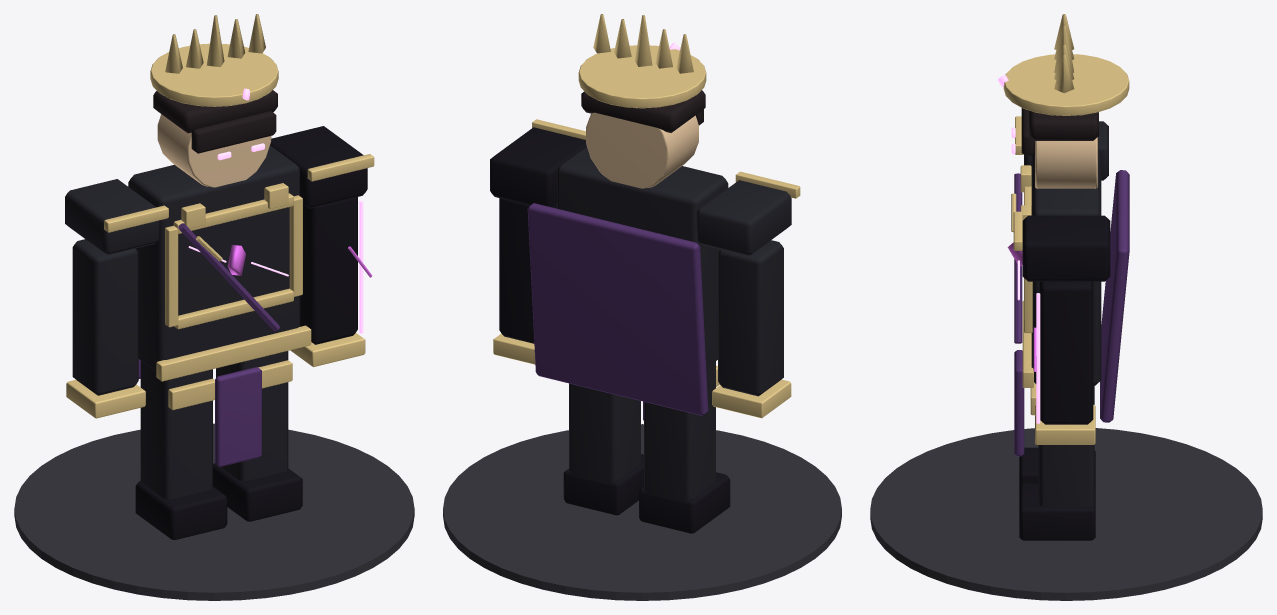
Rendered from crownbound_challenger_v2.fbx.
3 renders of one model, left to right at view 1: azimuth 30°, elevation 25°; view 2: azimuth 150°, elevation 25°; view 3: azimuth 270°, elevation 25°, orthographic.
Parts seen in each view (by area): view 1: Preview_Base_Disc, Torso_Black_Armor, Arm_Left_Armor, Leg_Left_Armor, Arm_Right_Corrupted_Armor, Crown_Circlet, Shoulder_Left_Gold_Edged, Royal_Waist_Cloth, Shoulder_Right_Corrupted, Head_Roblox_BlockRounded, Leg_Right_Armor, Boot_Left (+19 smaller); view 2: Preview_Base_Disc, Short_Torn_Royal_Cape, Torso_Black_Armor, Arm_Left_Armor, Leg_Left_Armor, Leg_Right_Armor, Head_Roblox_BlockRounded, Crown_Circlet, Shoulder_Left_Gold_Edged, Shoulder_Right_Corrupted, Arm_Right_Corrupted_Armor, Boot_Left (+6 smaller); view 3: Preview_Base_Disc, Arm_Right_Corrupted_Armor, Shoulder_Right_Corrupted, Crown_Circlet, Short_Torn_Royal_Cape, Torso_Black_Armor, Leg_Right_Armor, Boot_Right, Head_Roblox_BlockRounded, Hair_Shadow_Cap, Wrist_Right_Gold, Royal_Waist_Cloth (+5 smaller).
Part boxes in pixels (left/top/right/bottom): Preview_Base_Disc: left=14, top=423, right=414, bottom=600; Torso_Black_Armor: left=128, top=145, right=300, bottom=371; Arm_Left_Armor: left=72, top=239, right=138, bottom=395; Leg_Left_Armor: left=140, top=361, right=212, bottom=499; Arm_Right_Corrupted_Armor: left=300, top=197, right=357, bottom=344; Crown_Circlet: left=150, top=43, right=278, bottom=106; Shoulder_Left_Gold_Edged: left=65, top=179, right=159, bottom=255; Royal_Waist_Cloth: left=215, top=367, right=261, bottom=466; Shoulder_Right_Corrupted: left=270, top=126, right=367, bottom=208; Head_Roblox_BlockRounded: left=157, top=114, right=271, bottom=187; Leg_Right_Armor: left=216, top=351, right=288, bottom=480; Boot_Left: left=135, top=481, right=227, bottom=539; Preview_Base_Disc: left=443, top=424, right=841, bottom=600; Short_Torn_Royal_Cape: left=527, top=203, right=708, bottom=415; Torso_Black_Armor: left=556, top=147, right=728, bottom=367; Arm_Left_Armor: left=718, top=240, right=783, bottom=396; Leg_Left_Armor: left=644, top=361, right=715, bottom=502; Leg_Right_Armor: left=569, top=383, right=640, bottom=484; Head_Roblox_BlockRounded: left=586, top=108, right=698, bottom=188; Crown_Circlet: left=578, top=45, right=706, bottom=108; Shoulder_Left_Gold_Edged: left=696, top=180, right=791, bottom=256; Shoulder_Right_Corrupted: left=490, top=127, right=586, bottom=207; Arm_Right_Corrupted_Armor: left=499, top=198, right=556, bottom=343; Boot_Left: left=639, top=472, right=730, bottom=533; Preview_Base_Disc: left=870, top=428, right=1262, bottom=600; Arm_Right_Corrupted_Armor: left=1039, top=281, right=1093, bottom=424; Shoulder_Right_Corrupted: left=1022, top=215, right=1110, bottom=281; Crown_Circlet: left=1003, top=54, right=1129, bottom=115; Short_Torn_Royal_Cape: left=1100, top=170, right=1129, bottom=422; Torso_Black_Armor: left=1031, top=149, right=1101, bottom=386; Leg_Right_Armor: left=1038, top=386, right=1094, bottom=507; Boot_Right: left=1019, top=483, right=1095, bottom=540; Head_Roblox_BlockRounded: left=1035, top=137, right=1097, bottom=188; Hair_Shadow_Cap: left=1029, top=110, right=1098, bottom=140; Wrist_Right_Gold: left=1035, top=404, right=1095, bottom=444; Royal_Waist_Cloth: left=1014, top=350, right=1024, bottom=456.
Size of the model in its own units: 350 by 484 by 350.
